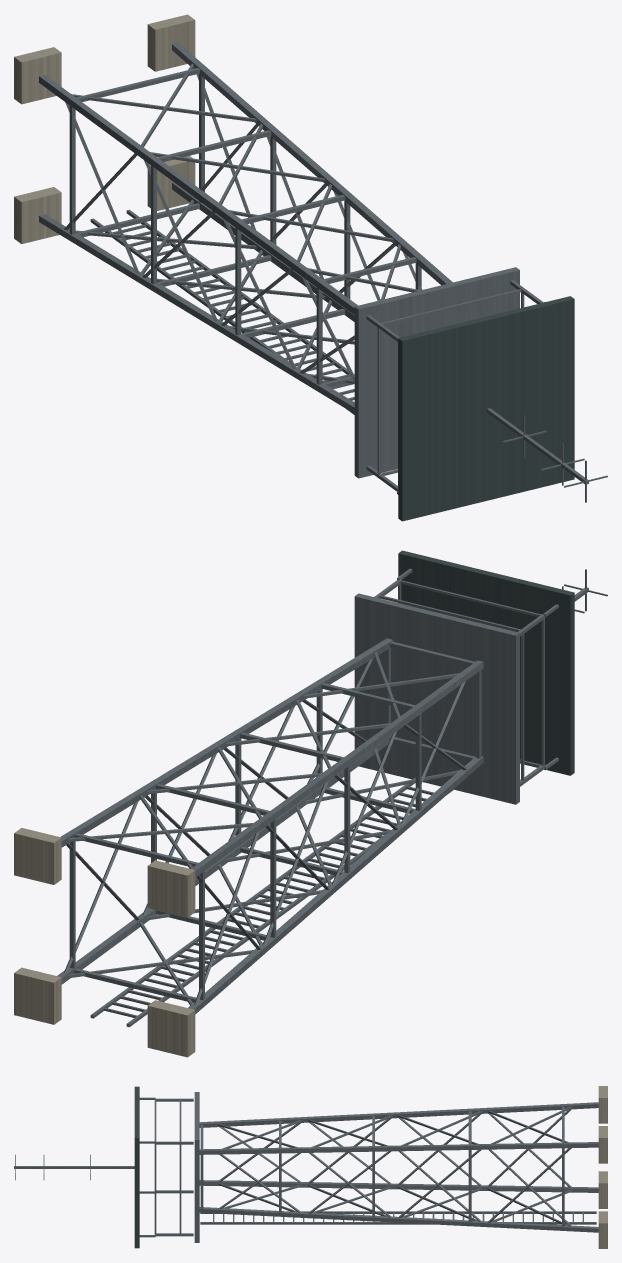
Rendered from Tower_01_Observation.obj.
3 renders of one model, top to bottom at view 1: azimuth 30°, elevation 25°; view 2: azimuth 150°, elevation 25°; view 3: azimuth 270°, elevation 25°, orthographic. The views are drawn at different scales.
Parts seen in each view (by area): view 1: steel, roof, concrete; view 2: steel, roof, concrete; view 3: steel, concrete, roof.
Boxes of the visible parts, bbox=[...] form: steel: bbox=[38, 42, 607, 502]; roof: bbox=[398, 296, 574, 521]; concrete: bbox=[14, 14, 195, 243]; steel: bbox=[57, 568, 607, 1027]; roof: bbox=[398, 550, 574, 775]; concrete: bbox=[14, 828, 195, 1057]; steel: bbox=[14, 1092, 598, 1242]; concrete: bbox=[598, 1086, 607, 1248]; roof: bbox=[134, 1086, 139, 1248].
Bounding box in the file's own units: 3.68 × 3.68 × 17.84.
Materials: 3 (3 with a texture image).
